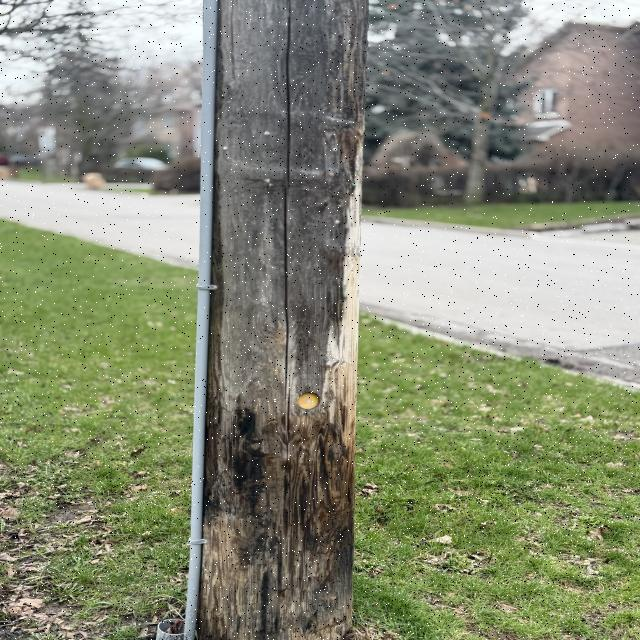Electrical Pole: (177, 2, 376, 638)
